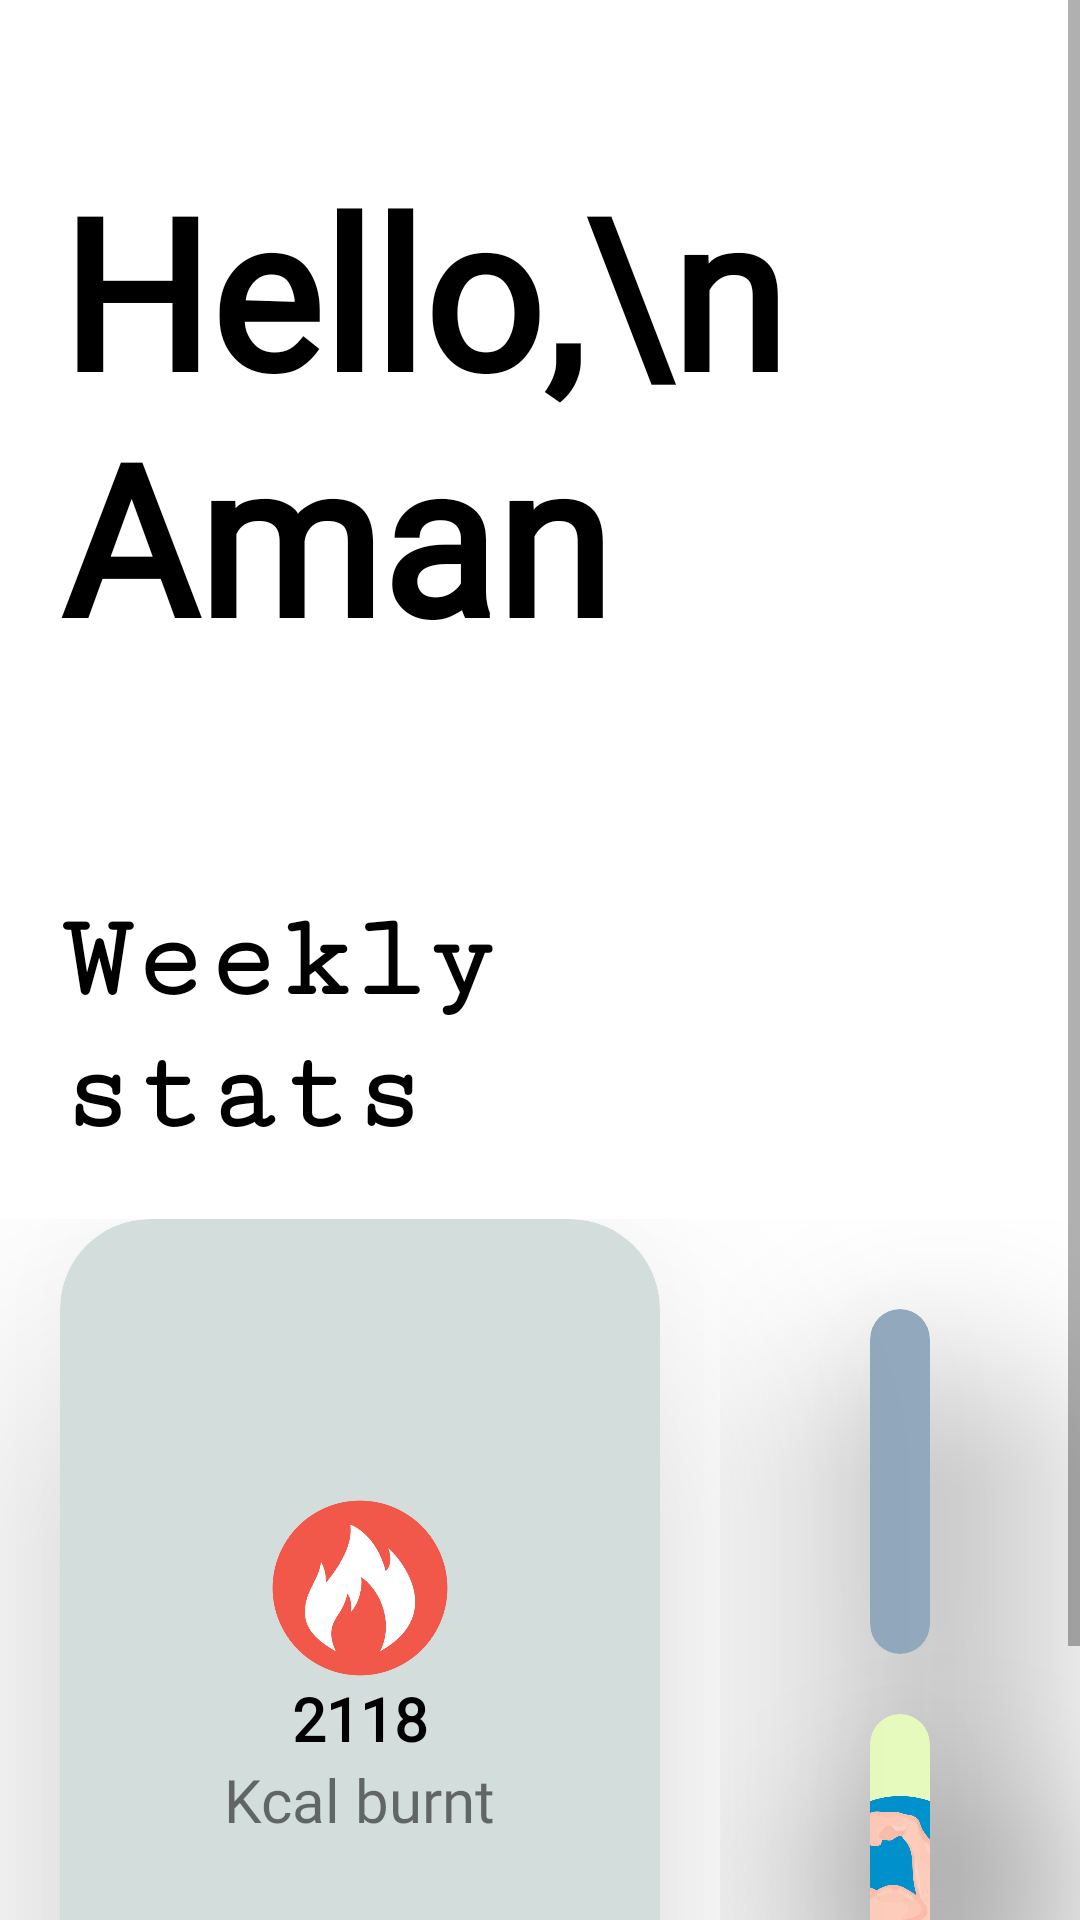

Icon click points for this 1080 x 1920 phone screenshot, format [x,y]:
fire: [360,1588]
